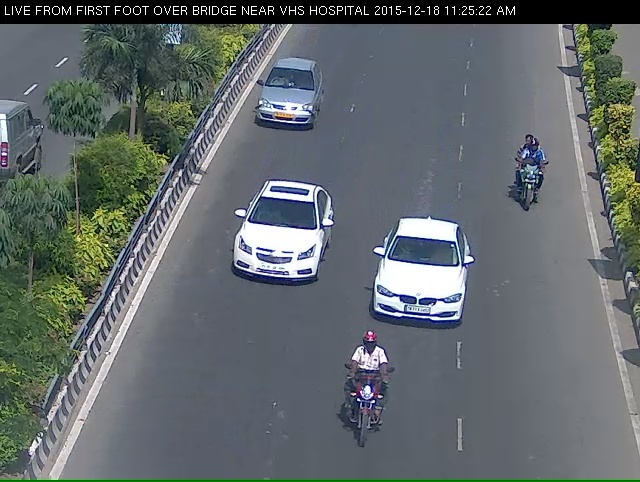Person: (241, 314, 293, 482)
